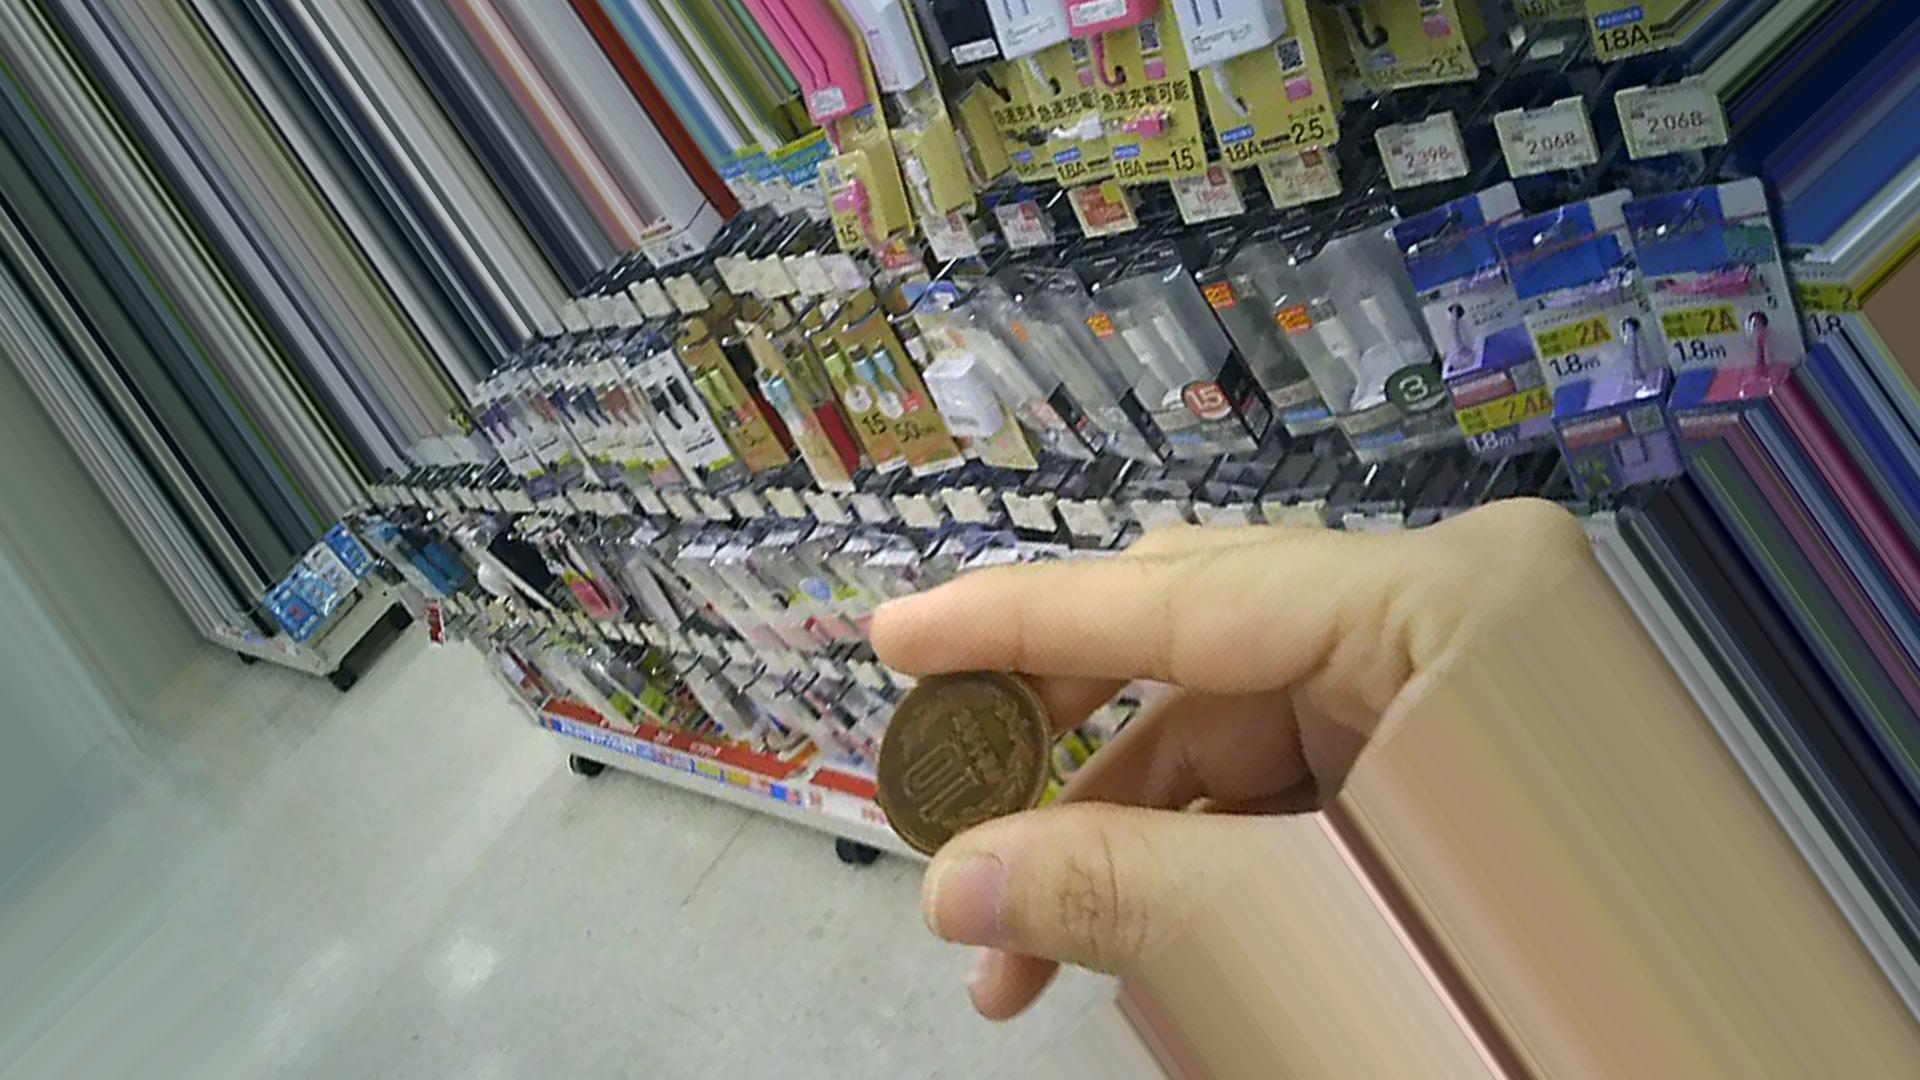10 Yen: (868, 665, 1063, 893)
